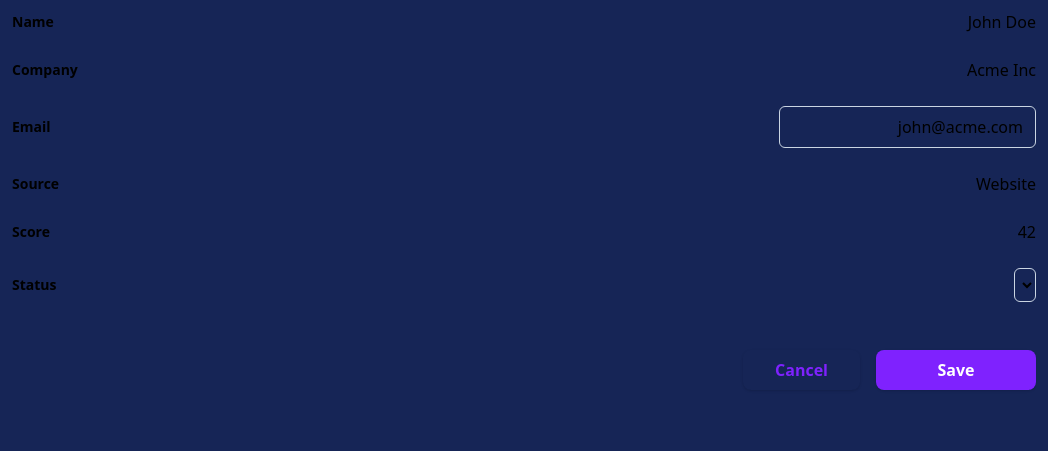
Scenario: LeadDetailForm › shows error message if updateLead throws
Click the button "Save" at (956, 370), box left=876, top=350, right=1036, bottom=390
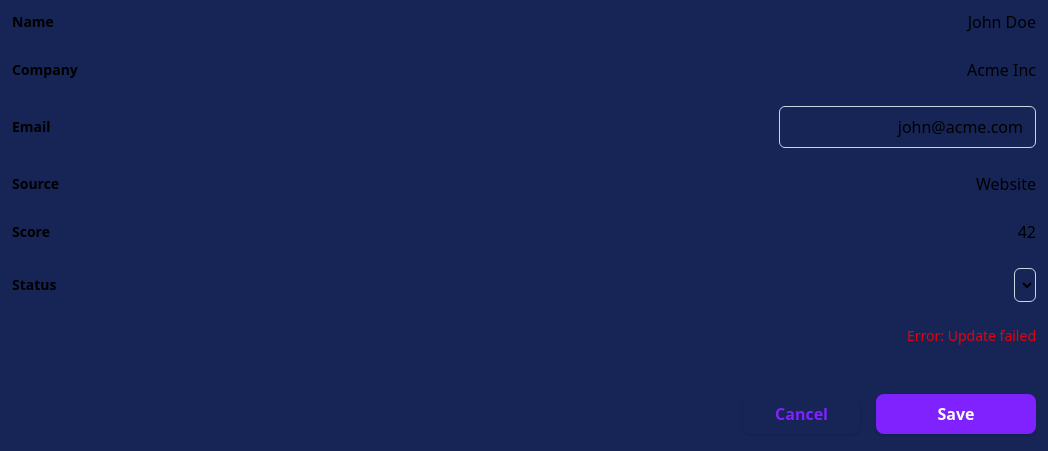
Expected: the text "Error: Update failed" is shown, left=907, top=326, right=1036, bottom=346
